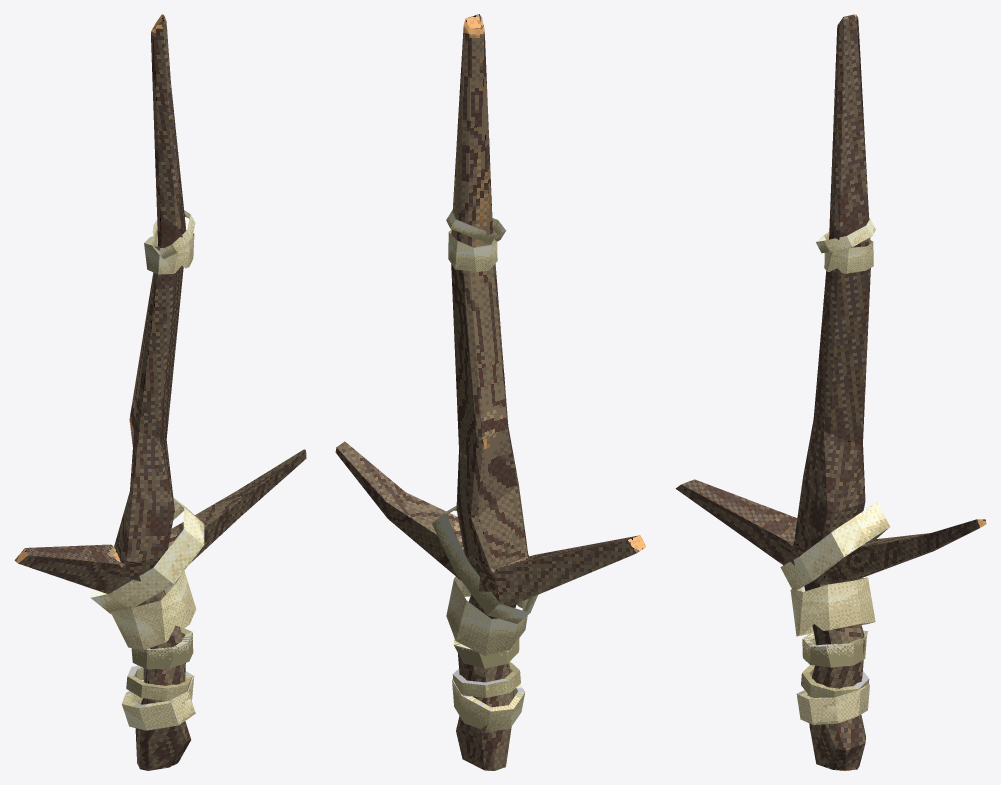
File: Stick.glb
3 views of the same model, side by side, from view 1: azimuth 30°, elevation 25°; view 2: azimuth 150°, elevation 25°; view 3: azimuth 330°, elevation 25° (orthographic).
Parts seen in each view (by area): view 1: StickReal, Band1, Band2, Band5, Band3, Band4, Band2.001, Band1.001; view 2: StickReal, Band2, Band1, Band5, Band2.001, Band4, Band3, Band1.001; view 3: StickReal, Band2, Band1, Band5, Band3, Band2.001, Band4, Band1.001.
Boxes of the visible parts, x1,y1,x2,y2 form: StickReal: (14, 14, 306, 770); Band1: (90, 497, 204, 614); Band2: (111, 571, 196, 650); Band5: (122, 675, 195, 730); Band3: (131, 627, 193, 669); Band4: (126, 665, 192, 701); Band2.001: (144, 230, 194, 274); Band1.001: (151, 210, 195, 259); StickReal: (335, 14, 646, 770); Band2: (446, 576, 528, 656); Band1: (432, 505, 537, 623); Band5: (452, 678, 525, 730); Band2.001: (448, 229, 497, 271); Band4: (452, 662, 520, 697); Band3: (453, 638, 519, 668); Band1.001: (446, 210, 506, 243); StickReal: (675, 14, 986, 770); Band2: (790, 577, 875, 636); Band1: (780, 502, 890, 591); Band5: (796, 684, 869, 724); Band3: (802, 630, 868, 667); Band2.001: (824, 239, 873, 273); Band4: (801, 665, 869, 697); Band1.001: (816, 217, 875, 253).
Size of the model in its own units: 2.37 by 5.65 by 0.6421.
Materials: 8 (8 with a texture image).
